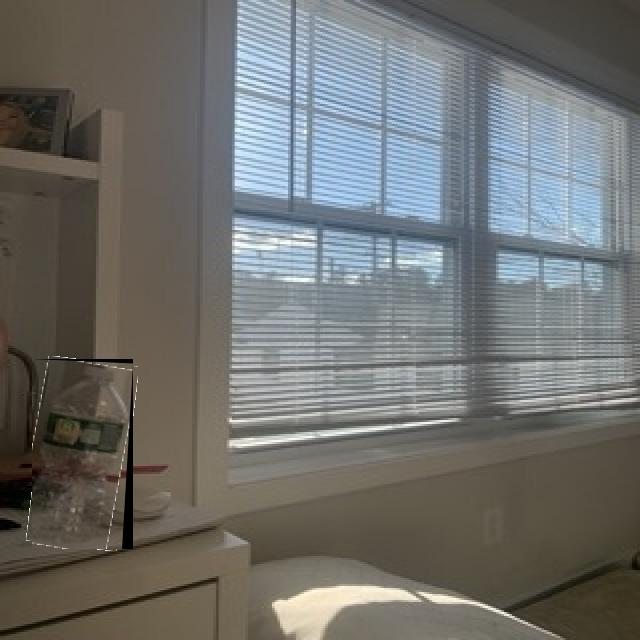water_bottle: (32, 359, 133, 549)
